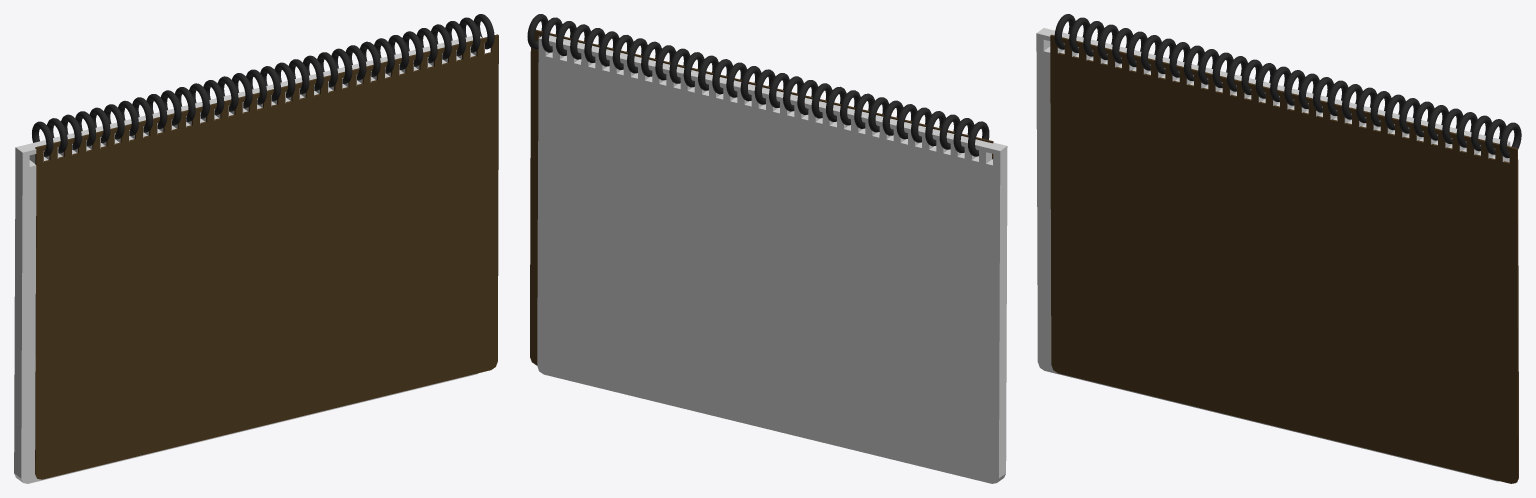
Rendered from sketchbook.glb.
3 renders of one model, left to right at view 1: azimuth 30°, elevation 25°; view 2: azimuth 150°, elevation 25°; view 3: azimuth 330°, elevation 25°, orthographic.
Visible parts, largest first — view 1: sketchbook_cover, Torus, paper; view 2: paper, Torus, sketchbook_cover; view 3: sketchbook_cover, Torus, paper.
Boxes of the visible parts, <box> form: sketchbook_cover: <box>35,34,498,479</box>; Torus: <box>32,14,494,156</box>; paper: <box>14,36,484,483</box>; paper: <box>537,35,1007,483</box>; Torus: <box>527,14,989,156</box>; sketchbook_cover: <box>530,29,993,365</box>; sketchbook_cover: <box>1050,34,1518,483</box>; Torus: <box>1054,14,1521,158</box>; paper: <box>1036,28,1510,481</box>.
Size of the model in its own units: 4.33 by 3.08 by 0.2842.
